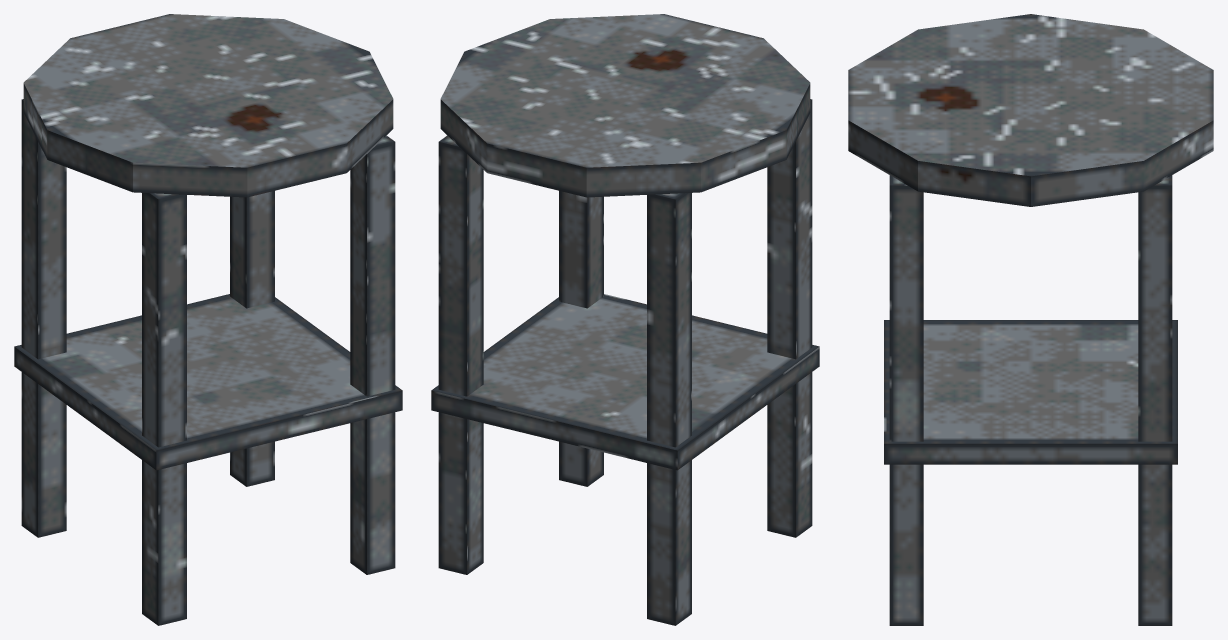
Rendered from SM_Stool_Metal_01.fbx.
3 renders of one model, left to right at view 1: azimuth 30°, elevation 25°; view 2: azimuth 150°, elevation 25°; view 3: azimuth 270°, elevation 25°, orthographic. The views are drawn at different scales.
Visible parts, largest first — view 1: SM_Stool_Metal_01; view 2: SM_Stool_Metal_01; view 3: SM_Stool_Metal_01.
Boxes of the visible parts, x1=… form: SM_Stool_Metal_01: x1=14, y1=14, x2=402, y2=625; SM_Stool_Metal_01: x1=431, y1=14, x2=819, y2=625; SM_Stool_Metal_01: x1=848, y1=14, x2=1213, y2=625.
Size of the model in its own units: 0.34 by 0.46 by 0.3234.
1 material, 1 textured.
